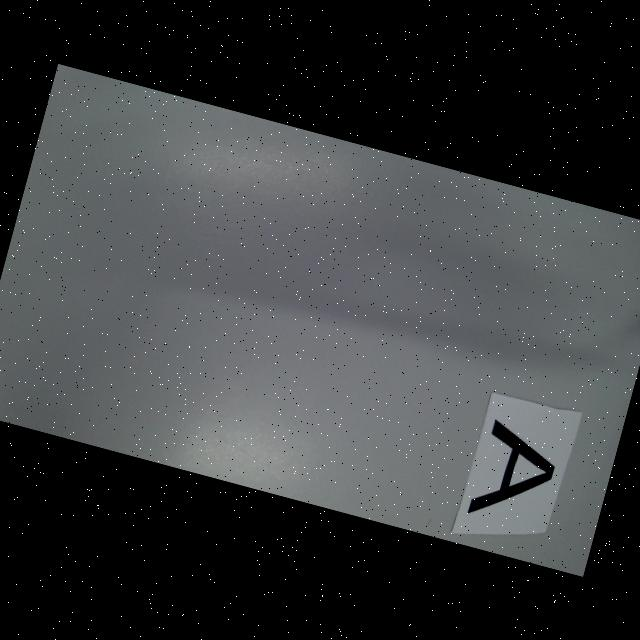FAKE: (466, 418, 563, 532)
